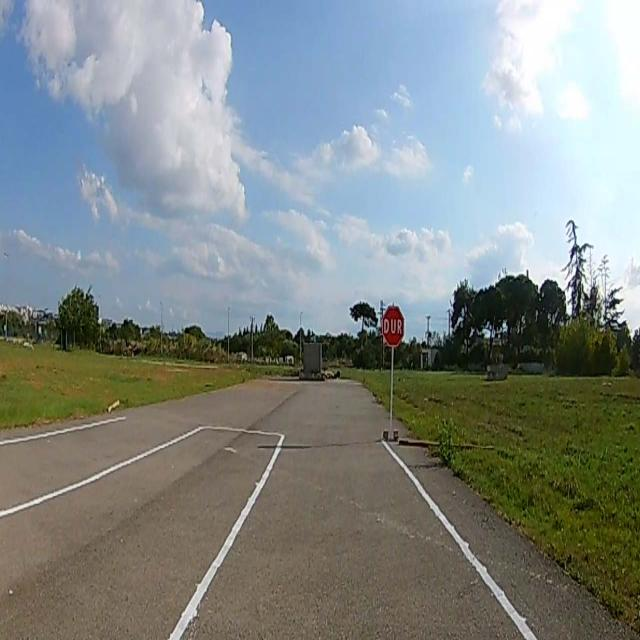dur: (382, 306, 405, 346)
